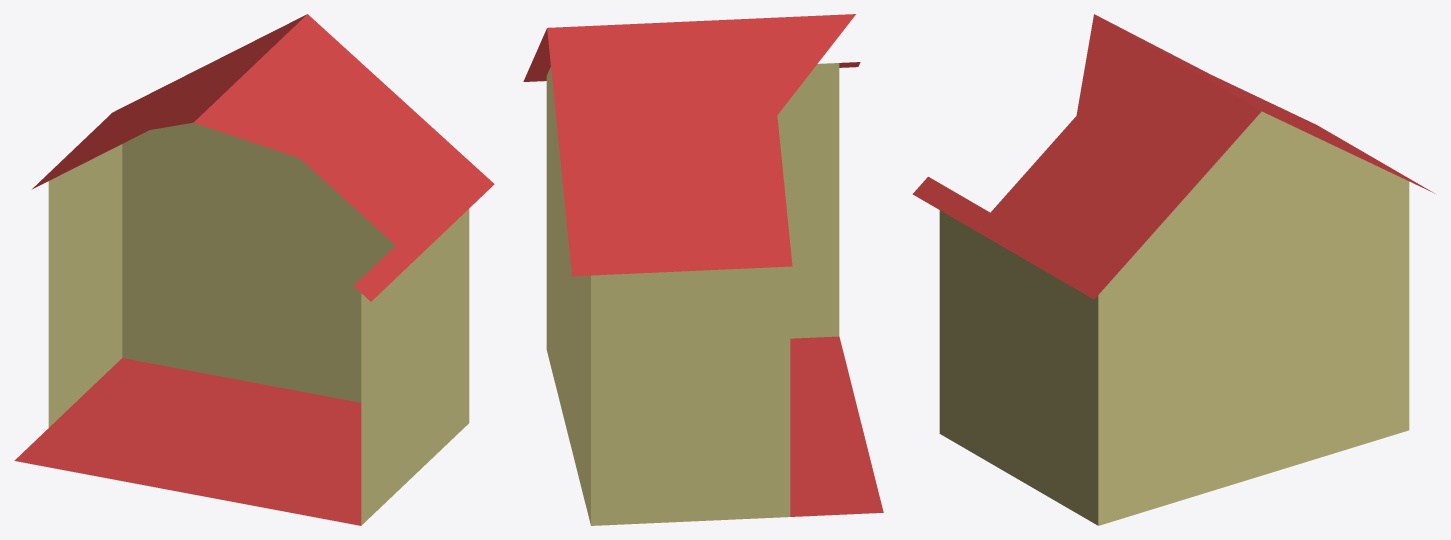
3 renders of one model, left to right at view 1: azimuth 30°, elevation 25°; view 2: azimuth 150°, elevation 25°; view 3: azimuth 270°, elevation 25°, orthographic. The views are drawn at different scales.
Size of the model in its own units: 12.09 by 13.44 by 10.6.
